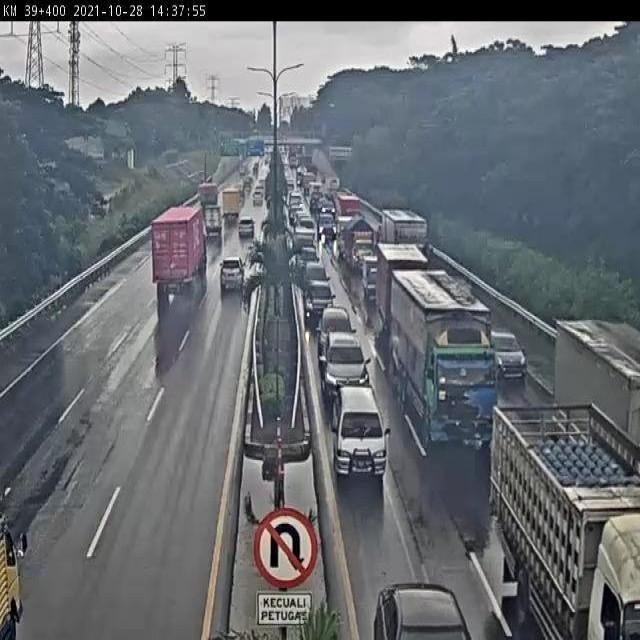car: (490, 325, 529, 383), (202, 206, 224, 238)
truck-l-: (491, 400, 640, 640), (391, 269, 497, 448)
truck-s-: (221, 191, 241, 229)
truck-xl-: (153, 205, 204, 298)
